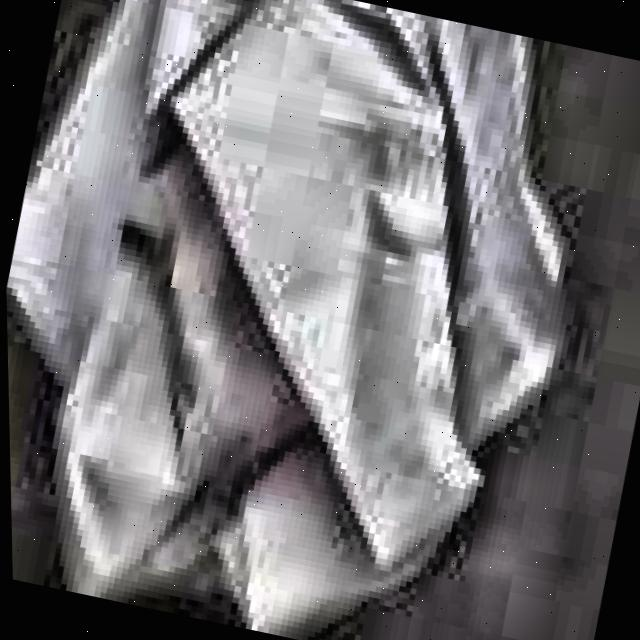paper: (5, 0, 565, 640)
